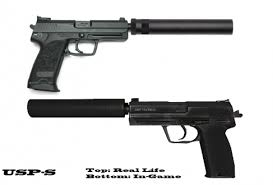gun: (24, 94, 240, 179), (24, 14, 236, 93)
